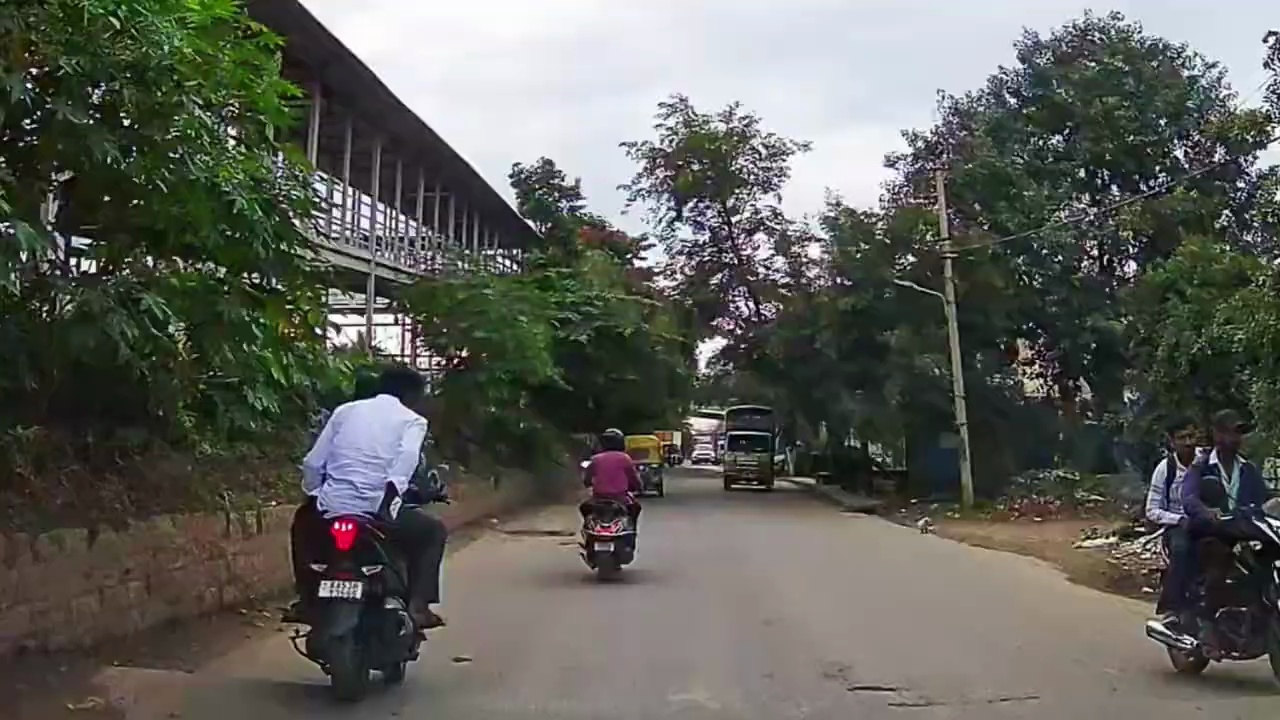garbage: (1098, 534, 1152, 577)
